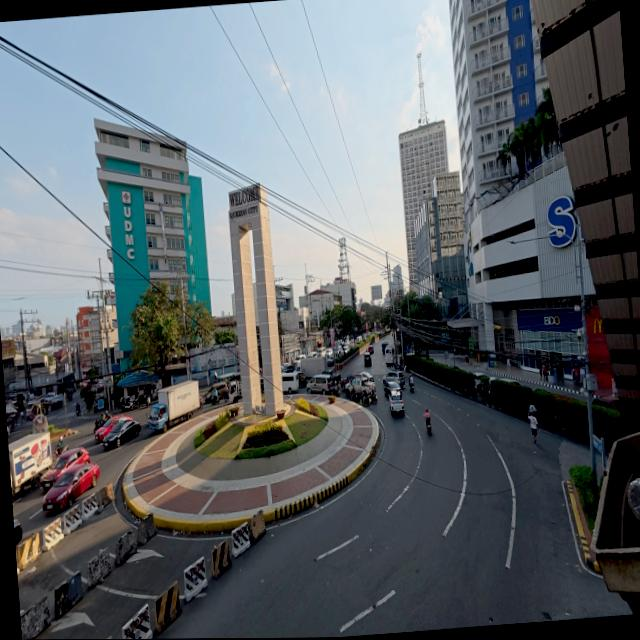car: (95, 413, 143, 451)
